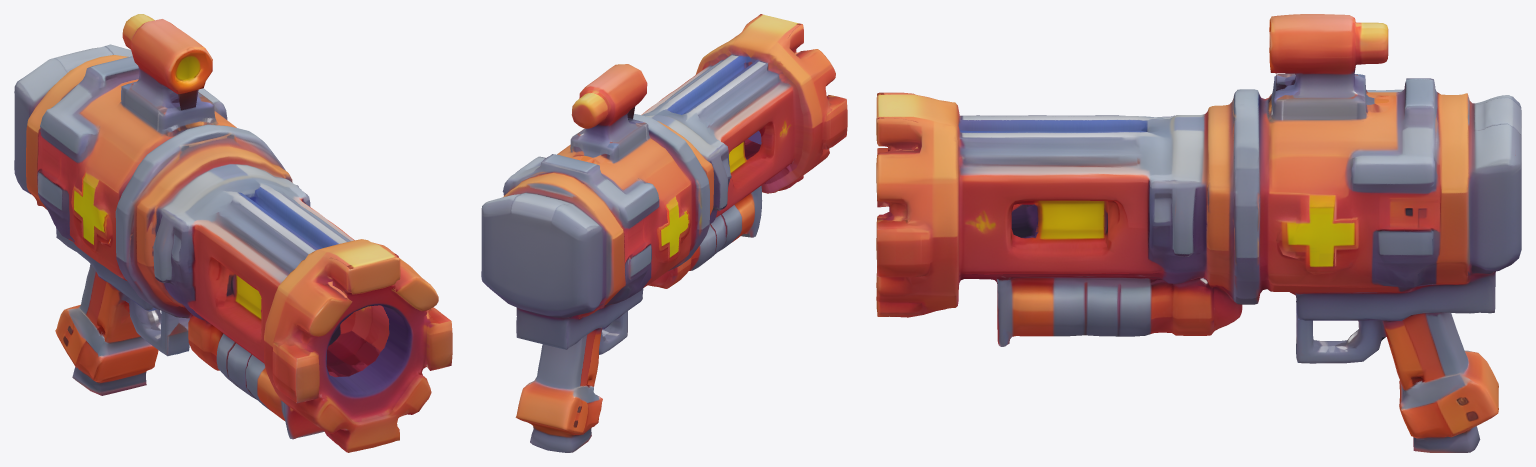
File: shotgun.glb
3 views of the same model, side by side, from view 1: azimuth 30°, elevation 25°; view 2: azimuth 150°, elevation 25°; view 3: azimuth 270°, elevation 25° (orthographic). The views are drawn at different scales.
Parts seen in each view (by area): view 1: model; view 2: model; view 3: model.
Part boxes in pixels (left/top/right/bottom): model: left=14, top=14, right=452, bottom=452; model: left=481, top=14, right=847, bottom=452; model: left=876, top=14, right=1521, bottom=452.
Bounding box in the file's own units: 0.5956 × 1.37 × 1.9.
Materials: 1 (1 with a texture image).
